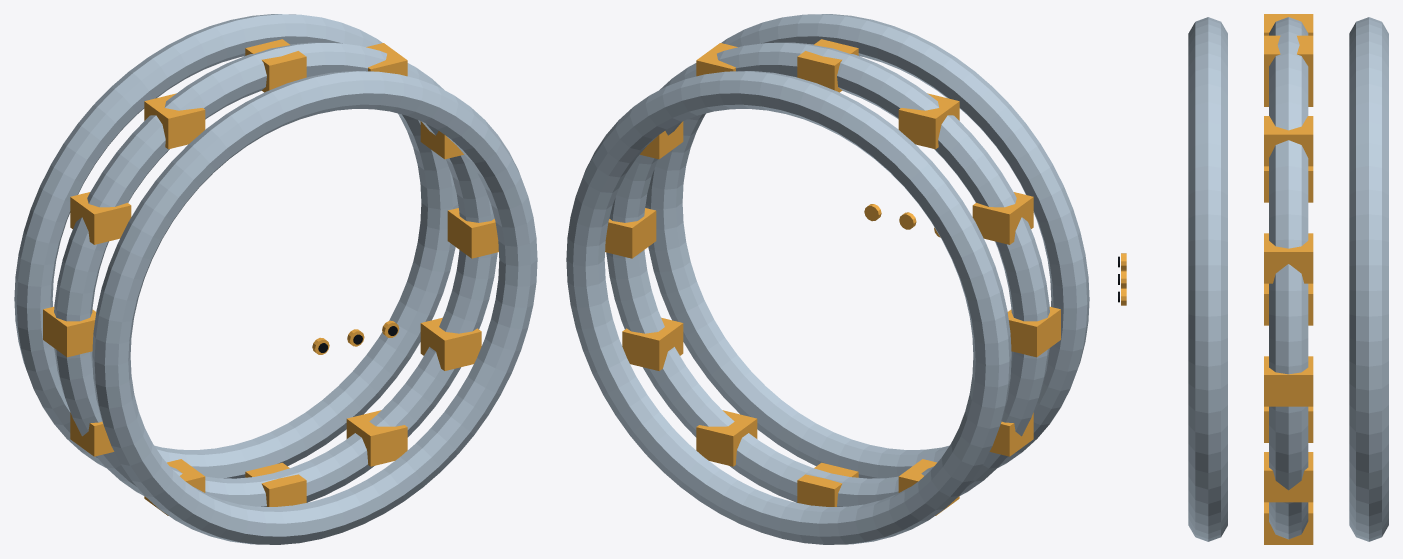
File: 18_L90_Aurora1PayloadServiceRing.fbx
The picture shows the model from 3 angles, left to right: view 1: azimuth 30°, elevation 25°; view 2: azimuth 150°, elevation 25°; view 3: azimuth 270°, elevation 25°; orthographic projection. The views are drawn at different scales.
Parts seen in each view (by area): view 1: L90_Aurora1PayloadServiceRing_Part_0000, L90_Aurora1PayloadServiceRing_Part_0001; view 2: L90_Aurora1PayloadServiceRing_Part_0000, L90_Aurora1PayloadServiceRing_Part_0001; view 3: L90_Aurora1PayloadServiceRing_Part_0000, L90_Aurora1PayloadServiceRing_Part_0001.
Part boxes in pixels (bbox=[...]): L90_Aurora1PayloadServiceRing_Part_0000: bbox=[14, 14, 537, 544]; L90_Aurora1PayloadServiceRing_Part_0001: bbox=[43, 39, 498, 515]; L90_Aurora1PayloadServiceRing_Part_0000: bbox=[566, 14, 1089, 544]; L90_Aurora1PayloadServiceRing_Part_0001: bbox=[605, 39, 1060, 515]; L90_Aurora1PayloadServiceRing_Part_0000: bbox=[1188, 17, 1388, 541]; L90_Aurora1PayloadServiceRing_Part_0001: bbox=[1264, 14, 1313, 544].
Size of the model in its own units: 393 by 392 by 202.
